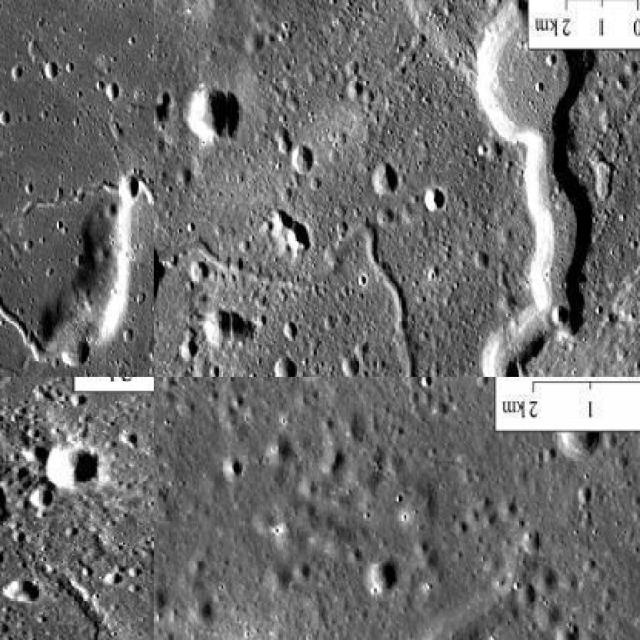crater: (445, 0, 596, 375), (157, 218, 426, 376), (20, 170, 154, 376), (266, 543, 534, 639), (2, 266, 49, 363)
